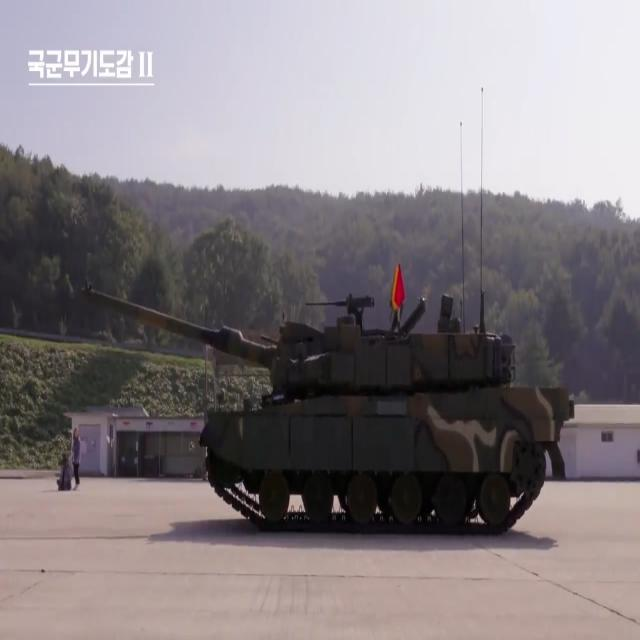korea tank: (78, 279, 574, 541)
